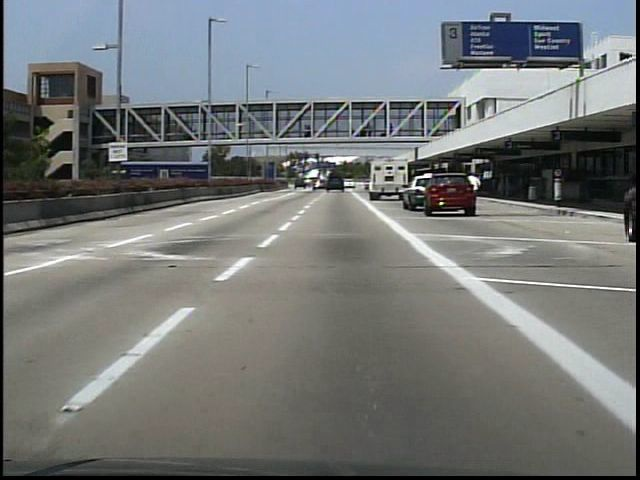person: (465, 172, 484, 212)
